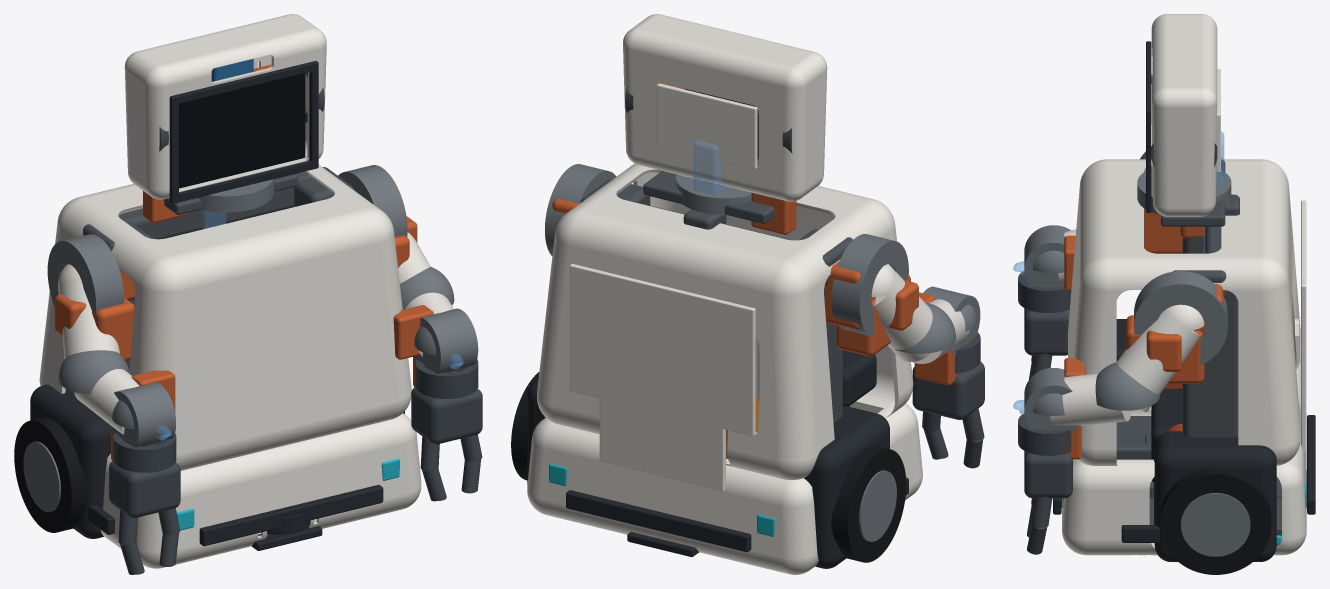
File: ZI-E_v1_0_ACTIVE.gltf
The picture shows the model from 3 angles, left to right: view 1: azimuth 30°, elevation 25°; view 2: azimuth 150°, elevation 25°; view 3: azimuth 270°, elevation 25°; orthographic projection. The views are drawn at different scales.
Parts seen in each view (by area): view 1: torso_shell, base_shell, head_shell, display_3p5_ILI9488_env, head_bezel, wheel_-1_fairing, wheel_-1_tire, arm_-1_pod, bumper_segment_1, arm_-1_gripper_palm, arm_1_gripper_palm, arm_-1_roll (+23 smaller); view 2: torso_shell, head_shell, rear_service_cover, base_shell, battery_door, head_rear_hatch, wheel_-1_fairing, wheel_-1_tire, arm_-1_pod, bumper_segment_2, arm_-1_gripper_palm, arm_-1_upper (+19 smaller); view 3: torso_shell, head_shell, base_shell, wheel_1_tire, wheel_1_fairing, shoulder_tower_1, arm_1_pod, wheel_1_hub, arm_1_upper, arm_1_forearm, arm_1_gripper_palm, arm_1_elbow (+24 smaller).
Part boxes in pixels (x1,y1,x2,y2): torso_shell: [39, 164, 411, 470]; base_shell: [100, 413, 421, 568]; head_shell: [124, 14, 326, 199]; display_3p5_ILI9488_env: [179, 73, 305, 188]; head_bezel: [169, 61, 318, 203]; wheel_-1_fairing: [30, 384, 110, 538]; wheel_-1_tire: [14, 417, 88, 532]; arm_-1_pod: [47, 234, 124, 313]; bumper_segment_1: [199, 484, 383, 546]; arm_-1_gripper_palm: [109, 460, 180, 517]; arm_1_gripper_palm: [411, 386, 482, 444]; arm_-1_roll: [110, 382, 175, 447]; torso_shell: [537, 163, 913, 479]; head_shell: [623, 14, 827, 201]; rear_service_cover: [569, 264, 755, 436]; base_shell: [527, 393, 922, 574]; battery_door: [599, 386, 725, 491]; head_rear_hatch: [657, 83, 757, 169]; wheel_-1_fairing: [804, 405, 889, 568]; wheel_-1_tire: [831, 446, 906, 562]; arm_-1_pod: [831, 234, 908, 336]; bumper_segment_2: [566, 490, 751, 552]; arm_-1_gripper_palm: [912, 361, 984, 419]; arm_-1_upper: [871, 264, 932, 361]; torso_shell: [1068, 159, 1300, 465]; head_shell: [1151, 14, 1217, 216]; base_shell: [1062, 359, 1306, 555]; wheel_1_tire: [1160, 468, 1271, 574]; wheel_1_fairing: [1154, 431, 1276, 561]; shoulder_tower_1: [1173, 270, 1238, 437]; arm_1_pod: [1134, 271, 1227, 365]; wheel_1_hub: [1181, 493, 1250, 556]; arm_1_upper: [1116, 304, 1204, 412]; arm_1_forearm: [1050, 373, 1131, 425]; arm_1_gripper_palm: [1024, 451, 1072, 498]; arm_1_elbow: [1095, 362, 1159, 410].
Bounding box in the file's own units: 248 × 282 × 174.
